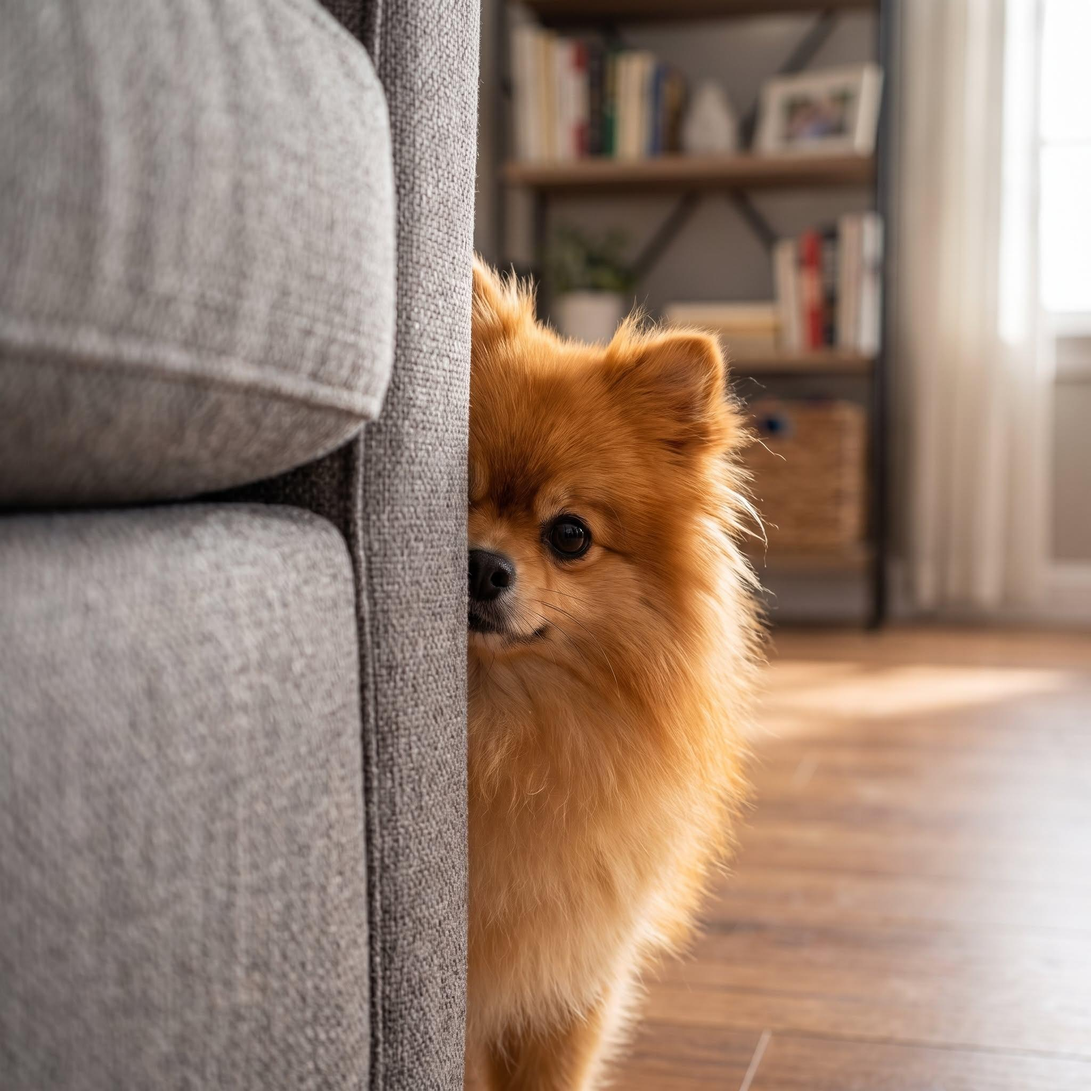adult_dog: (464, 254, 774, 1091)
